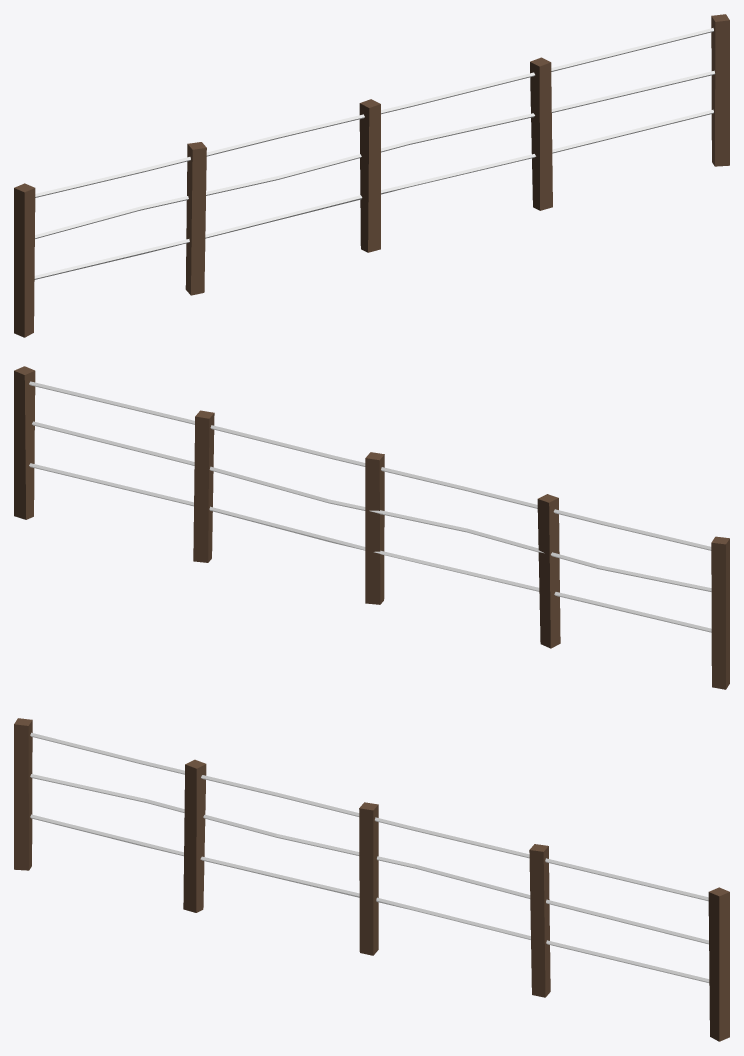
File: fence-vineyard01.fbx
3 renders of one model, top to bottom at view 1: azimuth 30°, elevation 25°; view 2: azimuth 150°, elevation 25°; view 3: azimuth 330°, elevation 25°, orthographic.
Parts seen in each view (by area): view 1: fence-vineyard01; view 2: fence-vineyard01; view 3: fence-vineyard01.
Part boxes in pixels (box(x1,y1,x2,y2)): fence-vineyard01: box(14, 14, 729, 337); fence-vineyard01: box(14, 366, 729, 689); fence-vineyard01: box(14, 718, 729, 1041).
Size of the model in its own units: 10.22 by 0.2395 by 2.
